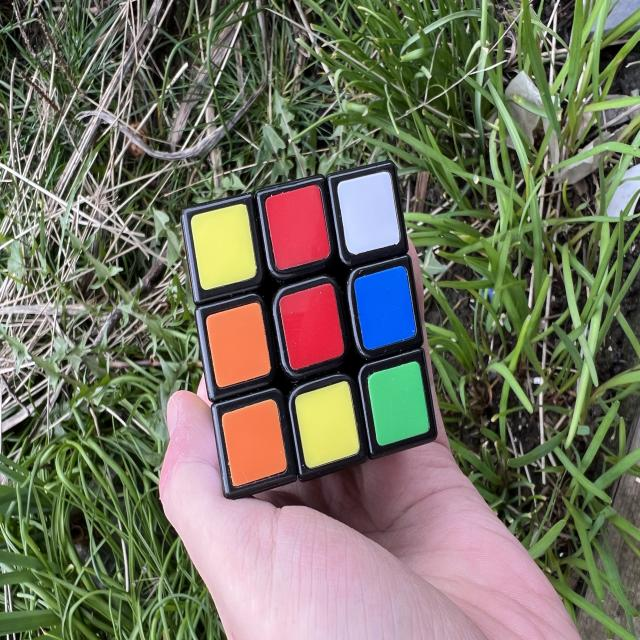blue: (351, 265, 419, 351)
center: (274, 282, 349, 371)
green: (365, 360, 432, 446)
orange: (203, 301, 274, 389), (219, 398, 289, 487)
red: (275, 282, 349, 371), (262, 184, 333, 271)
white: (334, 170, 403, 256)
yellow: (291, 380, 363, 469), (188, 203, 259, 291)
